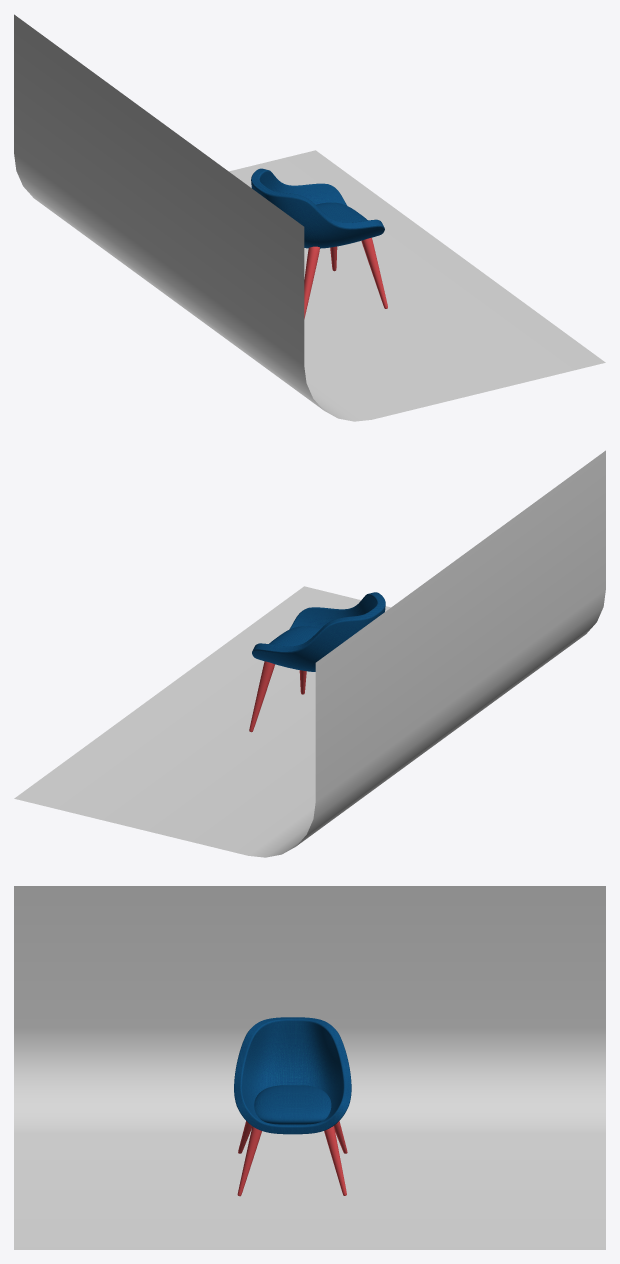
File: uploads_files_3770871_koltuk.fbx.fbx
3 views of the same model, one above another, from view 1: azimuth 30°, elevation 25°; view 2: azimuth 150°, elevation 25°; view 3: azimuth 270°, elevation 25° (orthographic).
Parts seen in each view (by area): view 1: Plane.002, Plane, Cube.001, Plane.001; view 2: Plane.002, Plane, Cube.001, Plane.001; view 3: Plane.002, Plane, Plane.001, Cube.001.
Part boxes in pixels (x1,y1,x2,y2): Plane.002: [14, 14, 605, 421]; Plane: [251, 168, 384, 248]; Cube.001: [304, 237, 387, 318]; Plane.001: [316, 202, 367, 222]; Plane.002: [14, 450, 605, 857]; Plane: [252, 592, 385, 671]; Cube.001: [249, 661, 306, 732]; Plane.001: [269, 626, 320, 646]; Plane.002: [14, 886, 605, 1249]; Plane: [234, 1017, 351, 1134]; Plane.001: [254, 1085, 331, 1124]; Cube.001: [237, 1121, 347, 1196].
Size of the model in its own units: 682 by 454 by 1136.
